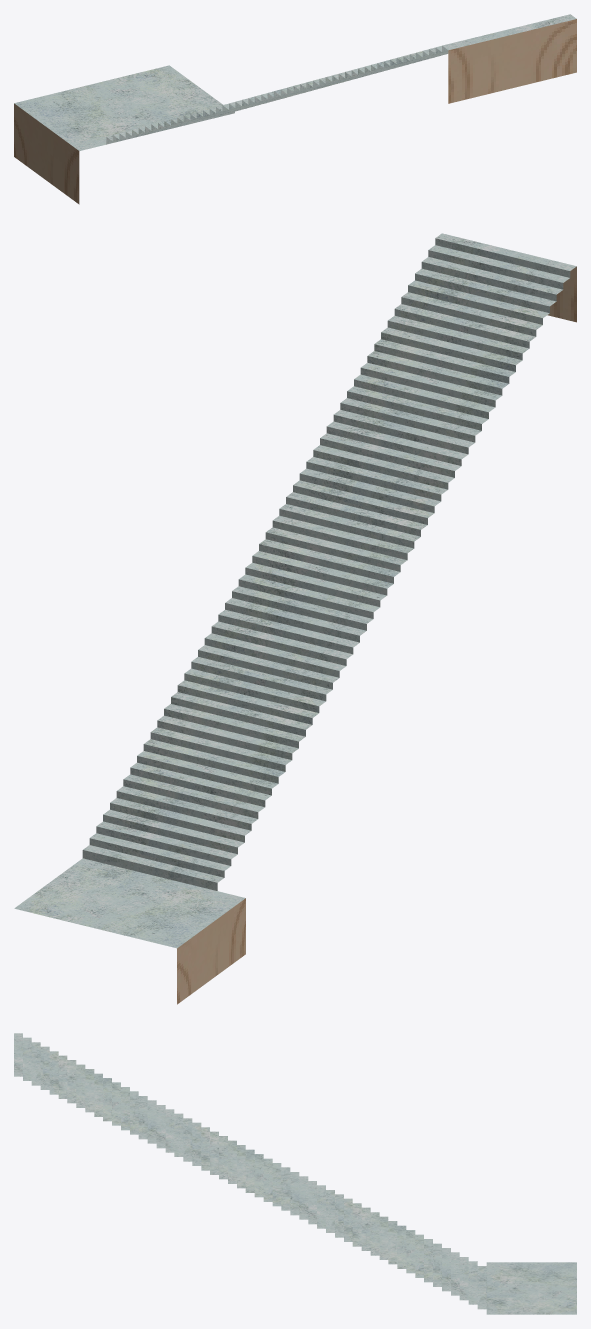
The model's file is FinalMap_Stairs 3.FBX.
3 views of the same model, one above another, from view 1: azimuth 30°, elevation 25°; view 2: azimuth 150°, elevation 25°; view 3: azimuth 270°, elevation 25° (orthographic). The views are drawn at different scales.
Visible parts, largest first — view 1: FinalMap_Stairs; view 2: FinalMap_Stairs; view 3: FinalMap_Stairs.
Part boxes in pixels (x1,y1,x2,y2): FinalMap_Stairs: (14, 14, 576, 204); FinalMap_Stairs: (14, 233, 576, 1004); FinalMap_Stairs: (14, 1033, 576, 1314).
Bounding box in the file's own units: 222 × 545 × 1010.
